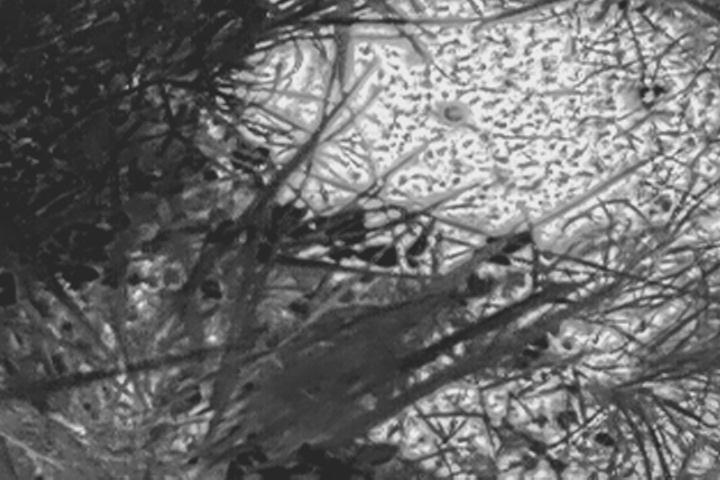landmine: (239, 3, 704, 317)
